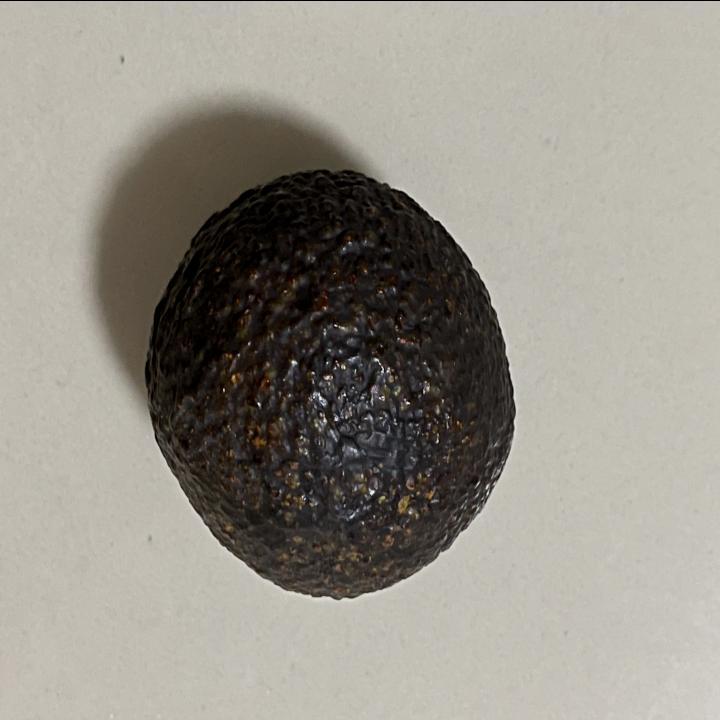Level2: (144, 162, 522, 604)
